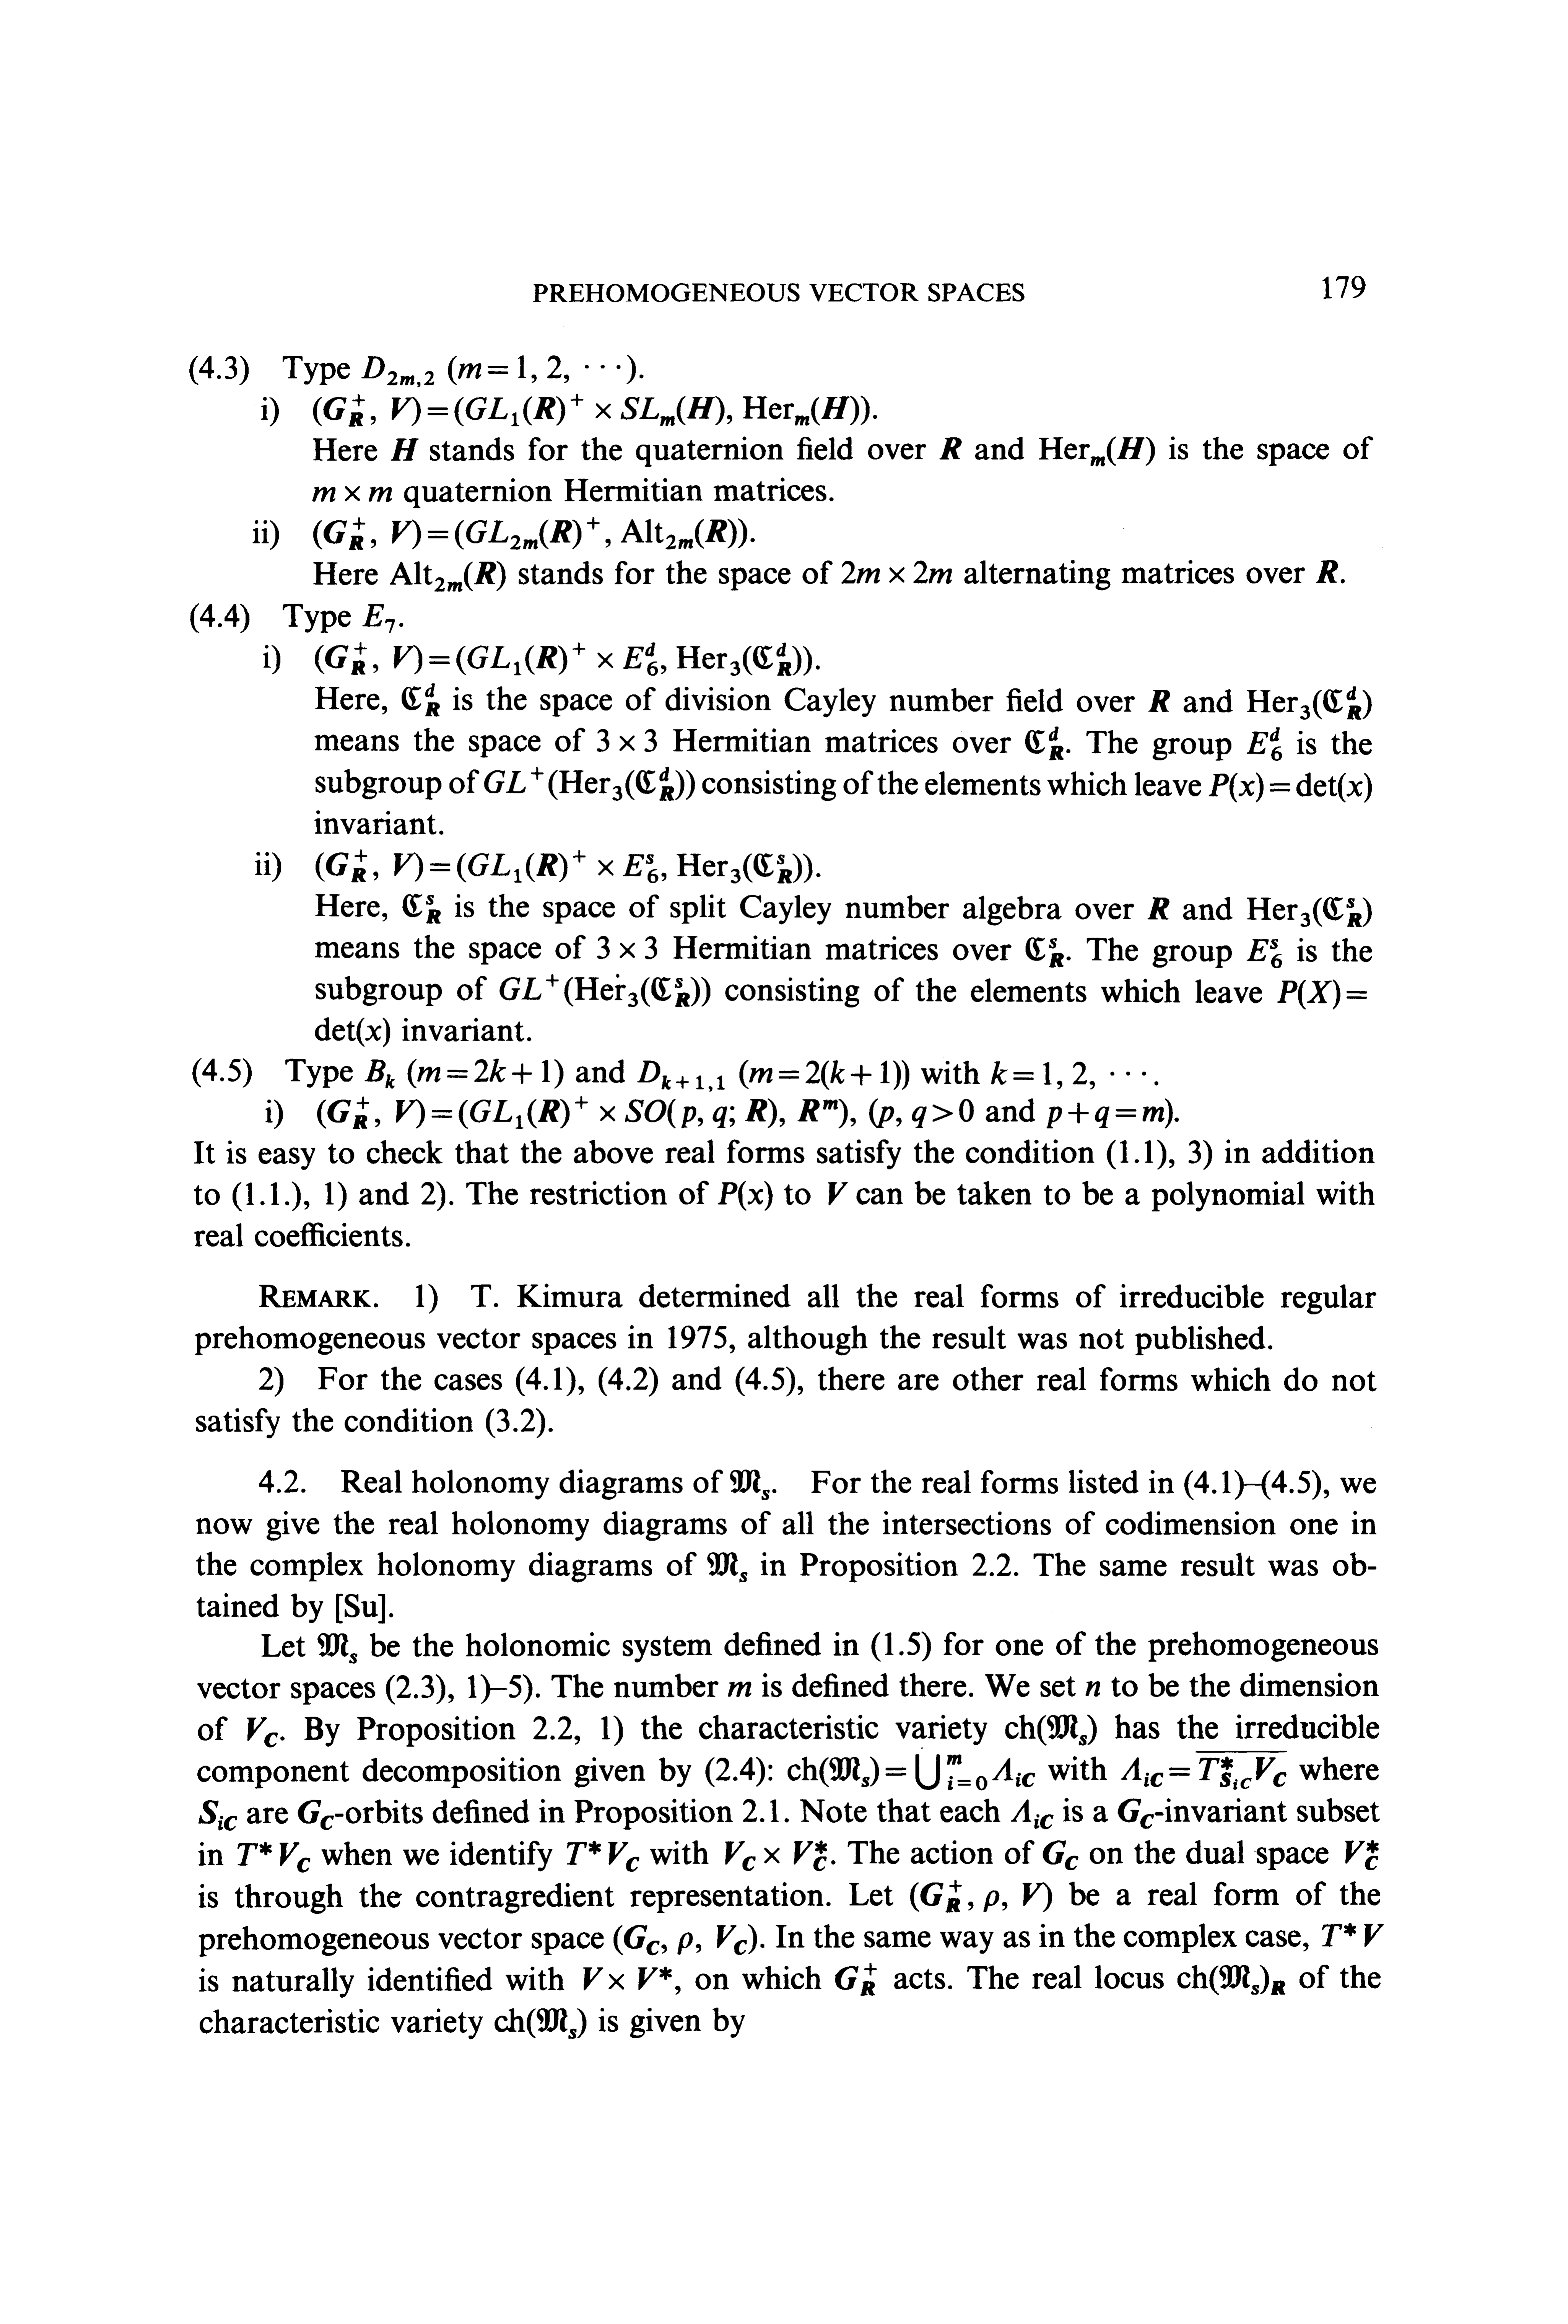maths: (313, 394, 877, 427), (317, 1096, 856, 1129), (315, 849, 812, 884), (315, 642, 812, 675), (313, 516, 747, 550), (787, 1755, 1034, 1790), (362, 355, 635, 387), (637, 1060, 908, 1090), (483, 767, 695, 800), (499, 973, 710, 1006), (364, 1059, 563, 1089), (1122, 1757, 1286, 1790), (1209, 772, 1372, 802), (910, 1880, 1052, 1913), (990, 1060, 1146, 1089), (614, 1925, 756, 1955), (1246, 686, 1372, 719), (1246, 896, 1372, 926), (1046, 1099, 1172, 1127), (1039, 436, 1155, 466), (390, 562, 506, 591), (1178, 1965, 1284, 1995), (724, 1841, 826, 1871), (870, 1099, 973, 1127), (1006, 1715, 1097, 1745), (842, 560, 952, 583), (1277, 980, 1367, 1008), (495, 2009, 576, 2039), (315, 1017, 390, 1046), (238, 1843, 310, 1873), (567, 1841, 639, 1871), (583, 1967, 672, 1990), (275, 1801, 334, 1831), (717, 1181, 772, 1211), (597, 728, 656, 752), (1025, 726, 1069, 760), (1321, 1923, 1382, 1946), (597, 936, 656, 959), (835, 1963, 877, 1995), (401, 682, 439, 716), (311, 486, 392, 502), (1011, 1799, 1053, 1829), (1246, 728, 1283, 761), (707, 1552, 747, 1582), (1025, 938, 1064, 968), (730, 1470, 768, 1500), (198, 1801, 236, 1831), (1246, 938, 1283, 968), (402, 894, 441, 922), (1346, 1839, 1379, 1871), (1118, 1799, 1153, 1829), (1043, 1841, 1078, 1871), (362, 604, 394, 634), (247, 1717, 276, 1746), (317, 1633, 348, 1657), (390, 437, 418, 460), (1316, 560, 1344, 583), (1148, 690, 1171, 712), (828, 1181, 847, 1206), (940, 437, 961, 459), (1148, 898, 1169, 919), (728, 1682, 751, 1696), (1085, 1682, 1101, 1696)
